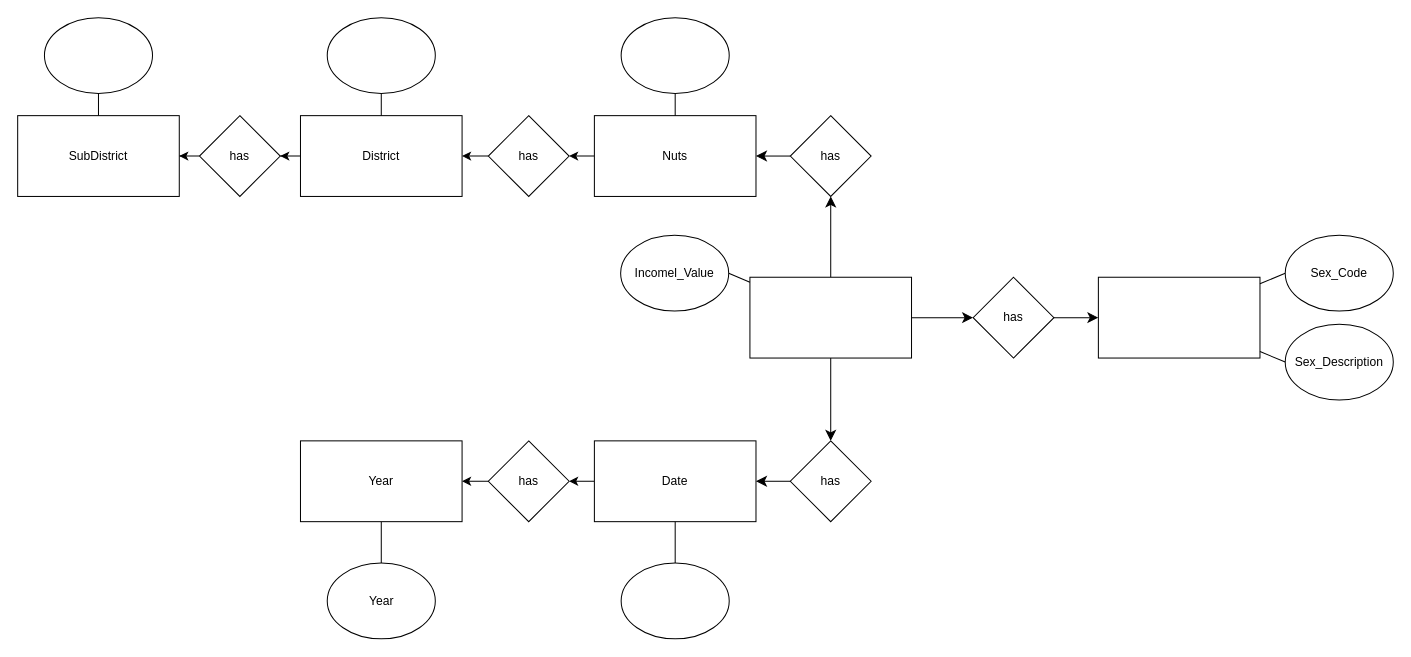
Image size: 1411x657. Some labels were removed from this diagram. Each missing label, with the centre of its shape:
District_Code: (380,55)
IncomeStatistic: (830,317)
Nuts_Code: (674,55)
Ref_Date: (674,600)
Sex: (1178,317)
Sub_District_Code: (98,55)
